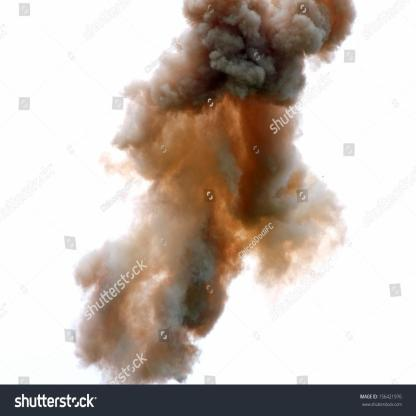smoke: (153, 158, 303, 232), (128, 106, 292, 157), (86, 298, 196, 362), (178, 46, 299, 96), (100, 240, 226, 284), (204, 3, 330, 40)
